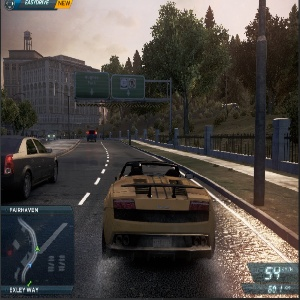building: (6, 49, 101, 135)
lamp post: (250, 1, 270, 211)
road sign: (76, 71, 146, 102)
tree: (144, 12, 226, 148), (224, 12, 300, 136)
vehicle: (1, 126, 63, 200), (84, 128, 97, 143), (47, 130, 58, 140)
